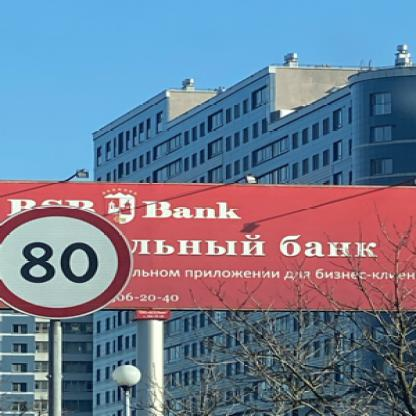speedlimit: (0, 204, 131, 319)
